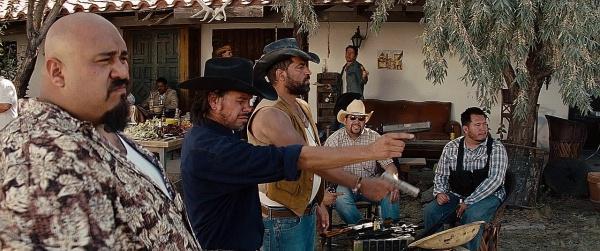Gun: (380, 171, 420, 200), (383, 121, 433, 137)
